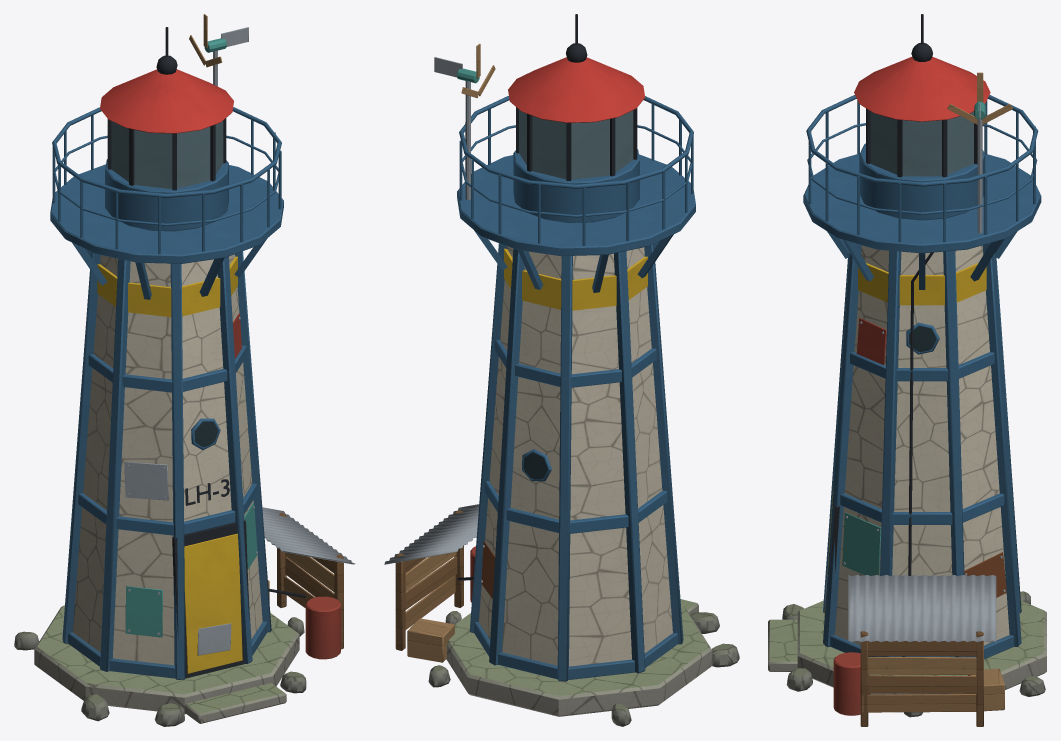
The model's file is lighthouse_small.glb.
3 renders of one model, left to right at view 1: azimuth 30°, elevation 25°; view 2: azimuth 150°, elevation 25°; view 3: azimuth 270°, elevation 25°, orthographic. The views are drawn at different scales.
Parts seen in each view (by area): view 1: lighthouse_small; view 2: lighthouse_small; view 3: lighthouse_small.
Part boxes in pixels (<box>): lighthouse_small: <box>14,14,355,726</box>; lighthouse_small: <box>384,14,739,726</box>; lighthouse_small: <box>768,14,1046,726</box>.
Size of the model in its own units: 4.93 by 11 by 4.34.
Materials: 32 (31 with a texture image).
